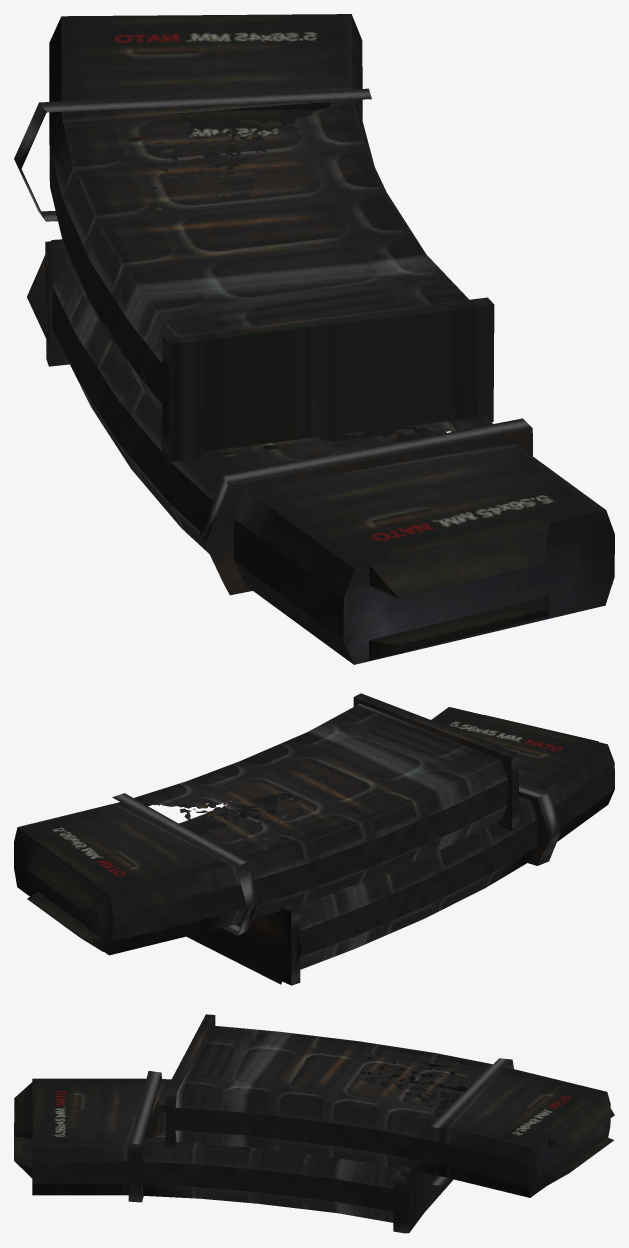
The model's file is t6_attach_fastmag_xm8_world_LOD0.obj.
3 renders of one model, top to bottom at view 1: azimuth 30°, elevation 25°; view 2: azimuth 150°, elevation 25°; view 3: azimuth 270°, elevation 25°, orthographic. The views are drawn at different scales.
Visible parts, largest first — view 1: mtl_t6_wpn_ar_xm8, mtl_t6_wpn_ar_xm8_camo3; view 2: mtl_t6_wpn_ar_xm8, mtl_t6_wpn_ar_xm8_camo3; view 3: mtl_t6_wpn_ar_xm8, mtl_t6_wpn_ar_xm8_camo3.
Boxes of the visible parts, bbox=[...] form: mtl_t6_wpn_ar_xm8: bbox=[14, 14, 614, 664]; mtl_t6_wpn_ar_xm8_camo3: bbox=[49, 67, 362, 640]; mtl_t6_wpn_ar_xm8: bbox=[14, 693, 614, 985]; mtl_t6_wpn_ar_xm8_camo3: bbox=[113, 763, 614, 957]; mtl_t6_wpn_ar_xm8: bbox=[14, 1014, 614, 1233]; mtl_t6_wpn_ar_xm8_camo3: bbox=[32, 1057, 527, 1211].
Size of the model in its own units: 13.7 by 5.63 by 26.23.
